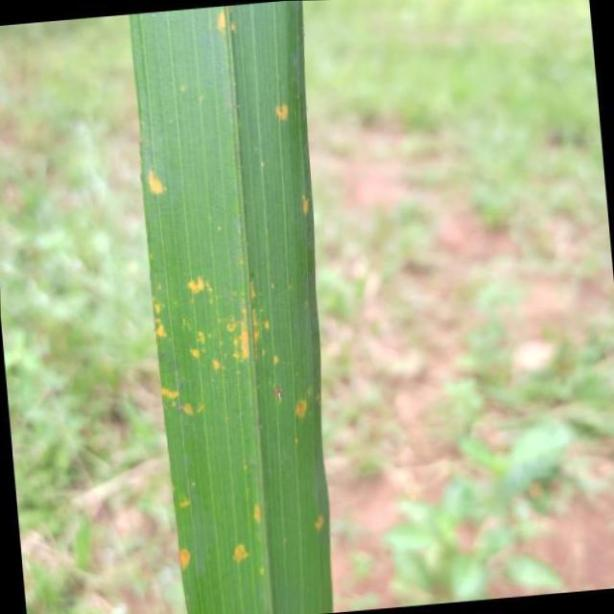Kalium: (132, 1, 332, 614)
